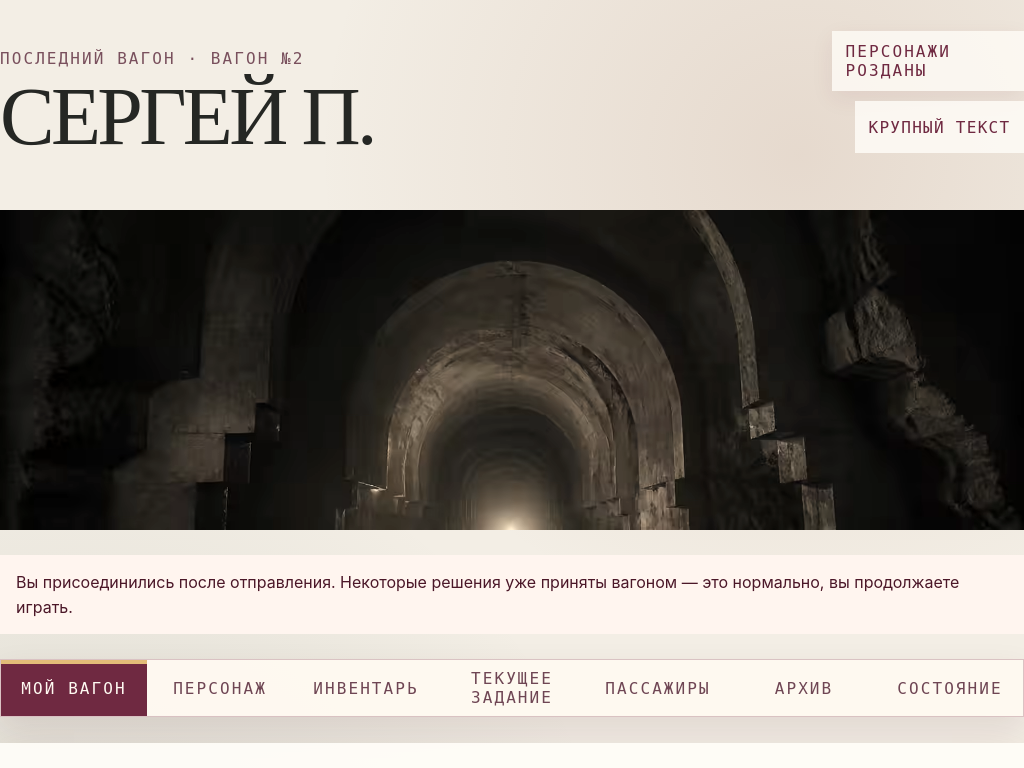
it: BunkerPlayerDashboard › uses honest archive and mission empty states
Step 1. Click the button "АРХИВ" → (804, 688), box [731,660,877,716]
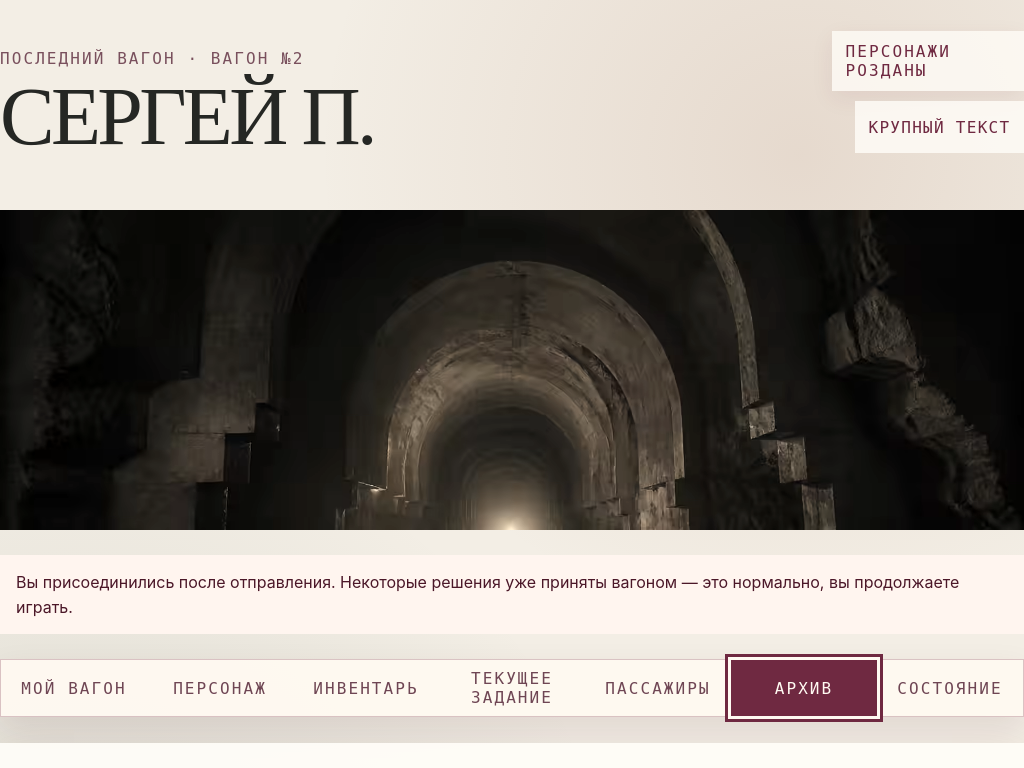
Step 2. Click the button "ТЕКУЩЕЕ ЗАДАНИЕ" → (512, 688), box [439,660,585,716]
(page scrolled)
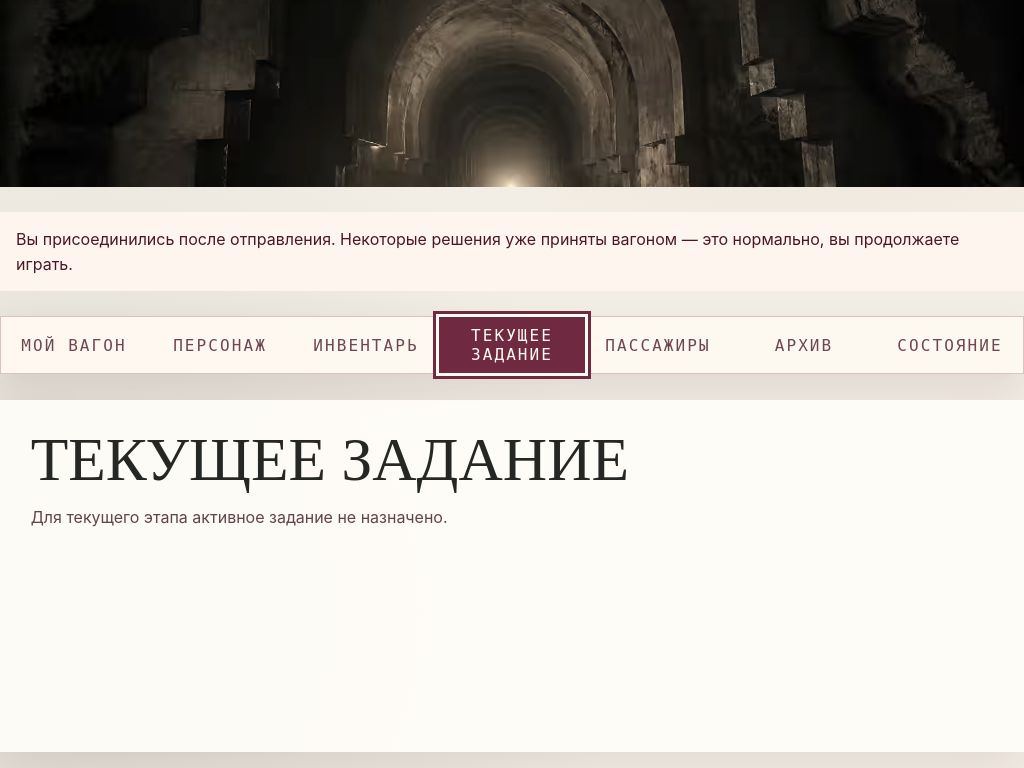
Check: the text "Для текущего этапа активное задание не назначено." is shown, box [31,507,448,527]
